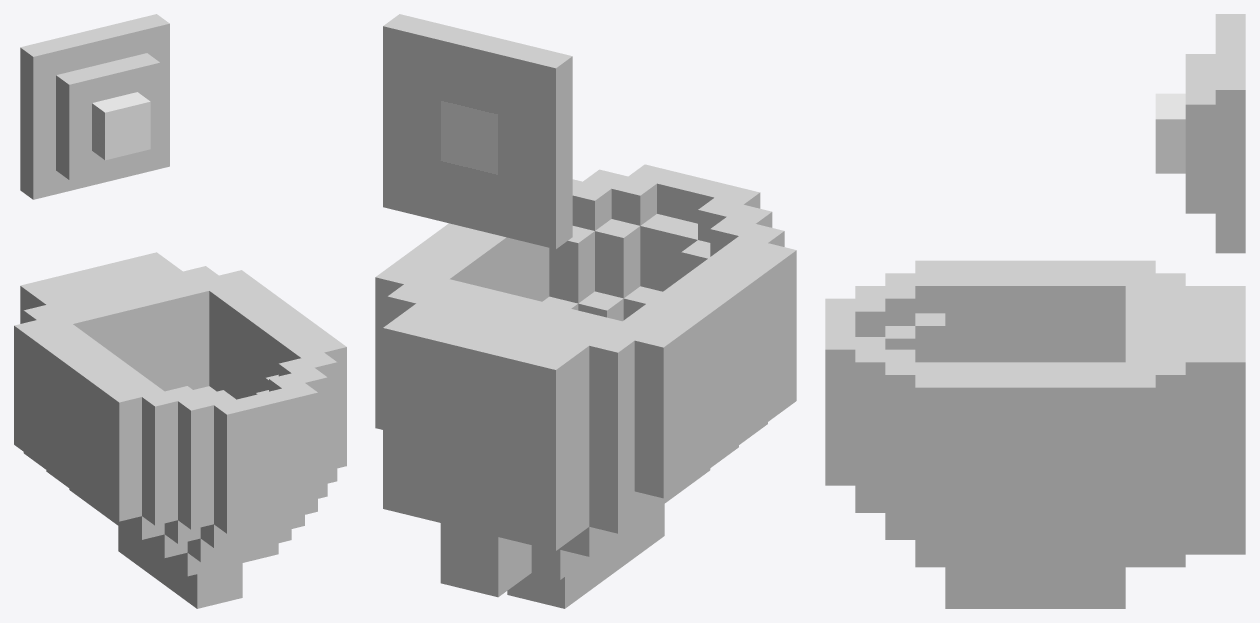
The model's file is Toilet.dae.
The picture shows the model from 3 angles, left to right: view 1: azimuth 30°, elevation 25°; view 2: azimuth 150°, elevation 25°; view 3: azimuth 270°, elevation 25°; orthographic projection. The views are drawn at different scales.
Visible parts, largest first — view 1: toilet; view 2: toilet; view 3: toilet.
Part boxes in pixels (x1,y1,x2,y2): toilet: (14, 14, 346, 608); toilet: (375, 14, 796, 608); toilet: (825, 14, 1245, 608).
Size of the model in its own units: 10 by 20 by 14.
Materials: 1 (1 with a texture image).
